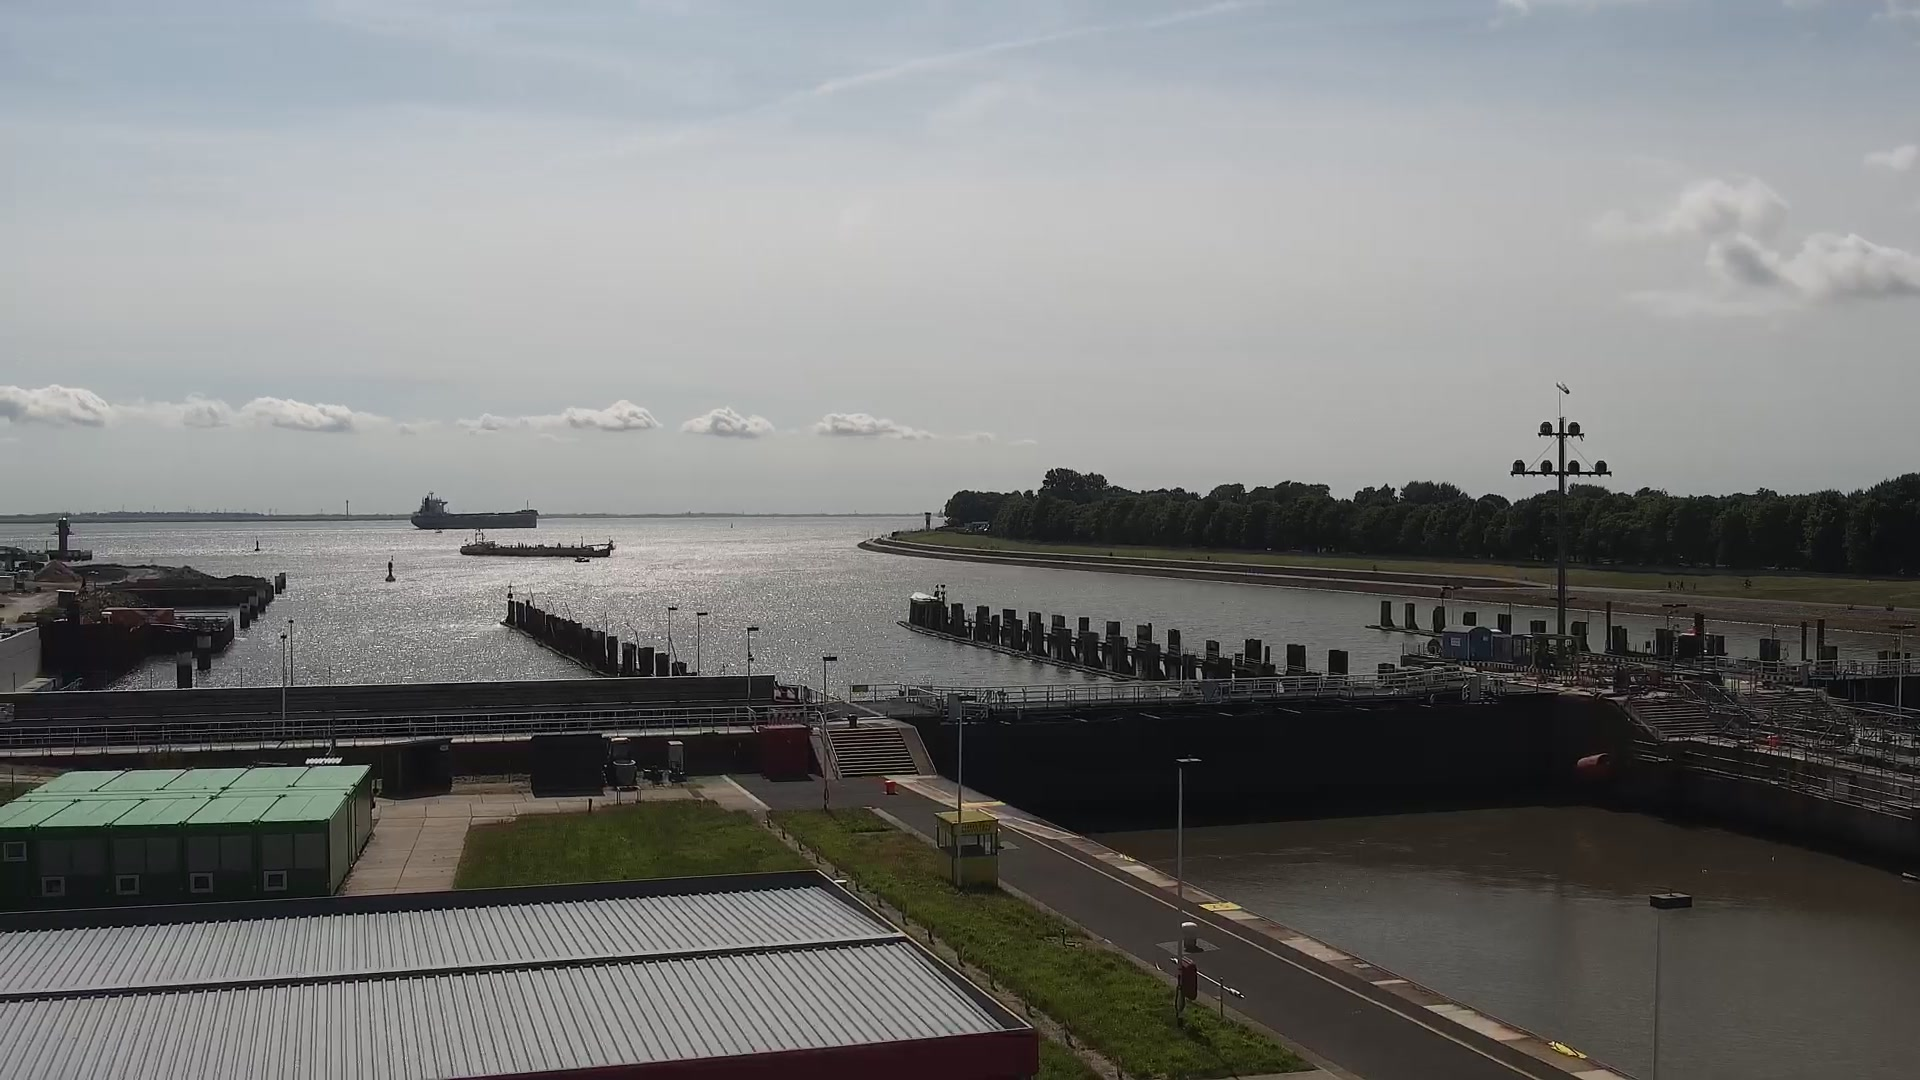human: (1679, 579, 1685, 592), (1675, 579, 1681, 591), (1742, 578, 1749, 590), (1667, 580, 1673, 591), (1692, 580, 1697, 592), (1748, 579, 1753, 591)
sea: (410, 488, 539, 529), (459, 524, 610, 556), (575, 556, 589, 562)
